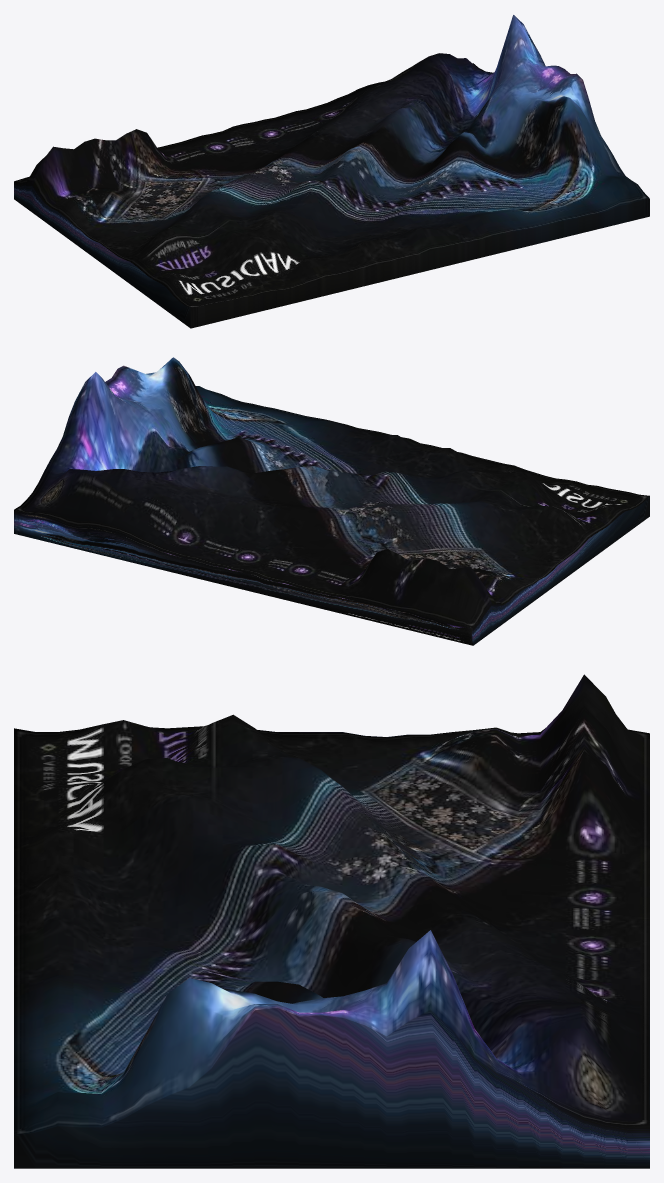
File: CAREER_04_Tool_02_Zither.glb
The picture shows the model from 3 angles, top to bottom: view 1: azimuth 30°, elevation 25°; view 2: azimuth 150°, elevation 25°; view 3: azimuth 270°, elevation 25°; orthographic projection. The views are drawn at different scales.
Visible parts, largest first — view 1: CAREER_04_Tool_02_Zither; view 2: CAREER_04_Tool_02_Zither; view 3: CAREER_04_Tool_02_Zither.
Boxes of the visible parts, x1,y1,x2,y2 form: CAREER_04_Tool_02_Zither: (14, 15, 649, 328); CAREER_04_Tool_02_Zither: (14, 357, 649, 645); CAREER_04_Tool_02_Zither: (14, 674, 649, 1168).
Bounding box in the file's own units: 2 × 0.51 × 1.33.
1 material, 1 textured.
